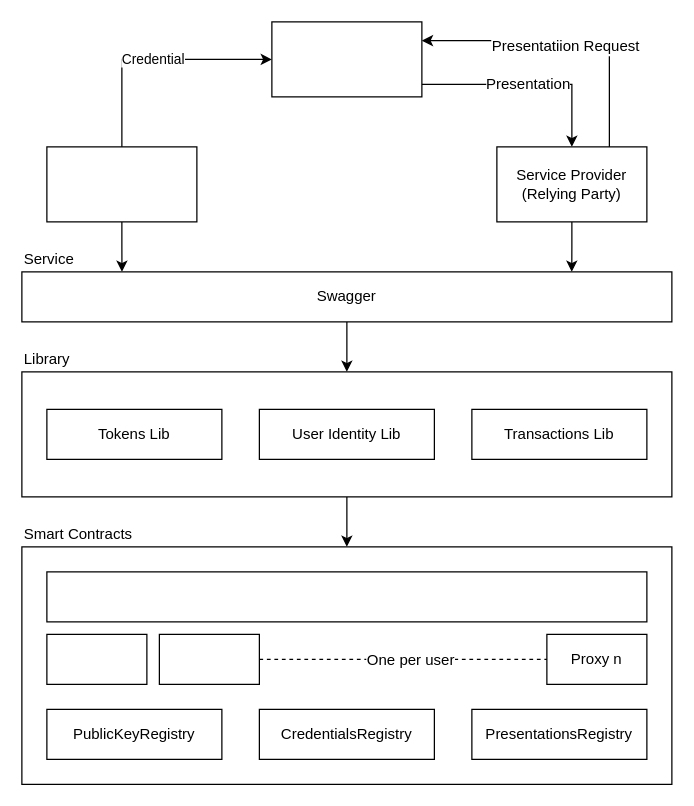
The diagram is 694 pixels wide and 806 high, and some of its shapes have lost their labels. The shapes that lost their labels are listed below. From the top down, each one's centre as x and y in pixels, then its label:
point 346,59: Subject - wallet Library and keystore
point 121,184: Issuer
point 346,596: IdentityManager
point 96,658: Proxy 1
point 208,658: Proxy 2
